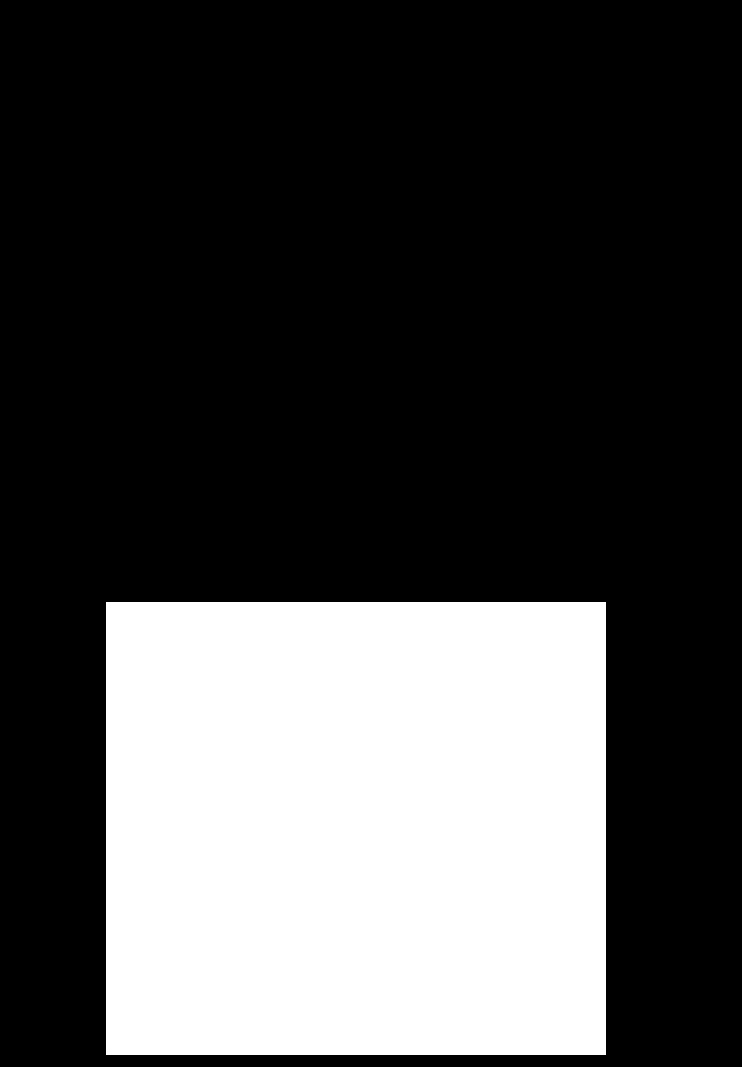table: (106, 602, 605, 1054)
